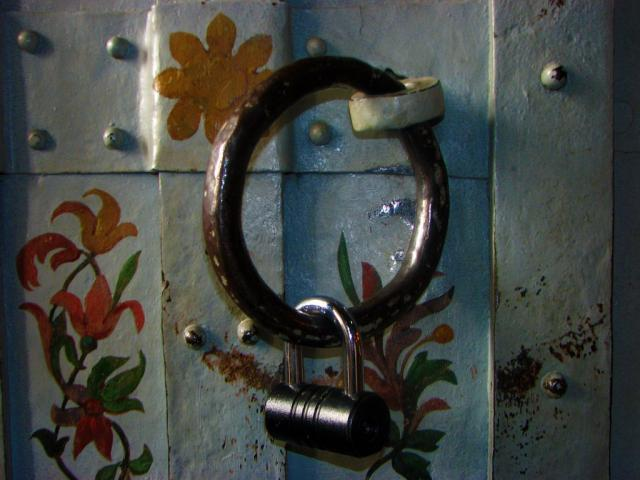Door-handle: (202, 54, 451, 352)
